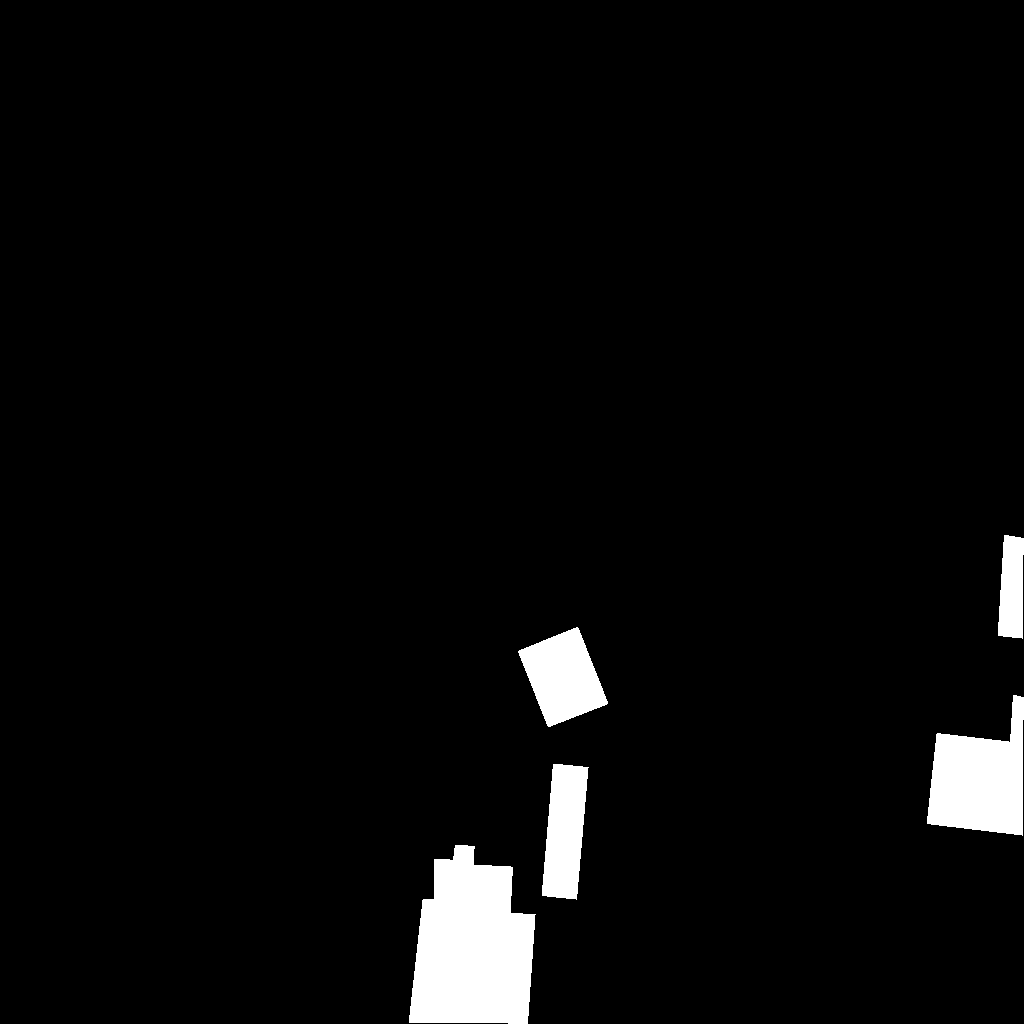building: (409, 845, 536, 1024), (927, 695, 1024, 836), (518, 627, 609, 728), (542, 764, 589, 900), (998, 535, 1024, 639)
